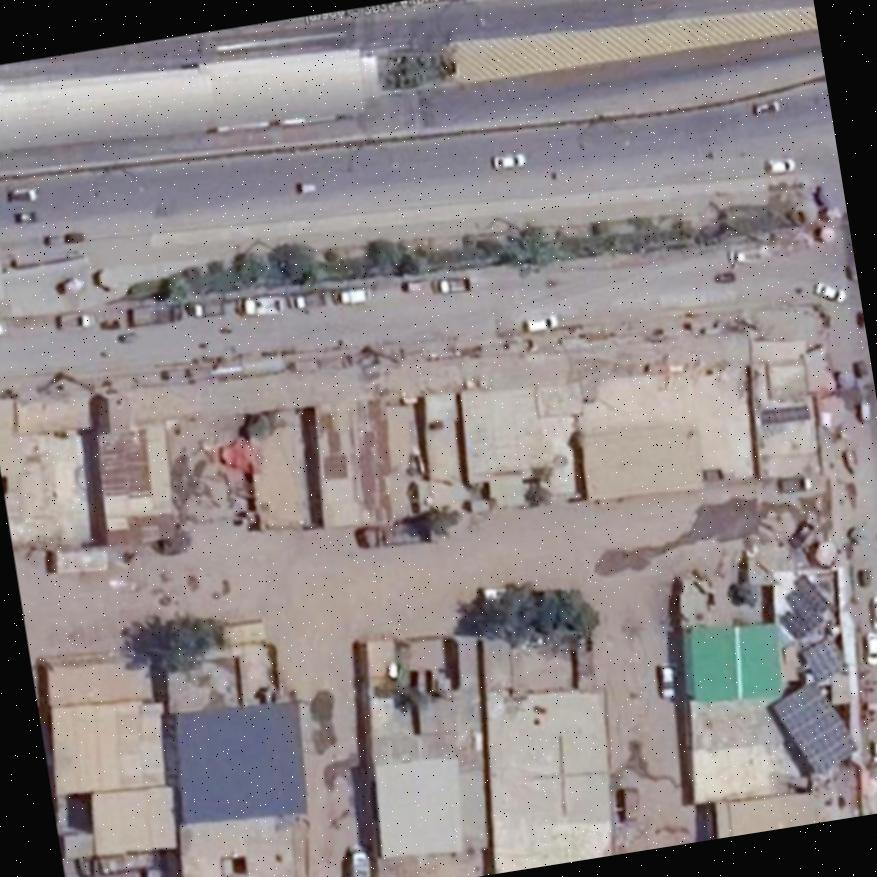Solarpanel: (770, 681, 858, 774), (802, 638, 847, 683), (785, 589, 822, 628), (794, 576, 830, 612), (764, 403, 808, 427), (778, 611, 806, 639)
